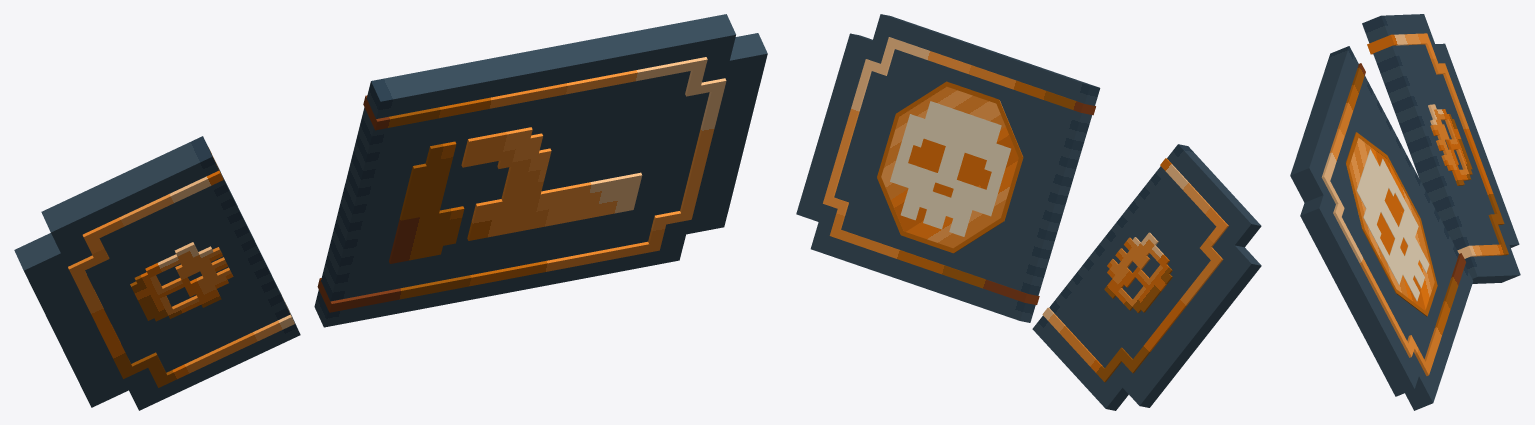
File: pirate_raffle_tic02.gltf
3 renders of one model, left to right at view 1: azimuth 30°, elevation 25°; view 2: azimuth 150°, elevation 25°; view 3: azimuth 270°, elevation 25°, orthographic. The views are drawn at different scales.
Visible parts, largest first — view 1: ticket_...cket$$(3)-Local, ticket_ship_tab$$(3)-Local, icon$$(3)-Local, skull$$(2)-Local; view 2: ticket_...cket$$(3)-Local, ticket_ship_tab$$(3)-Local, skull-Local, coin_sheen-Local, skull$$(2)-Local, icon$$(3)-Local, p_coin01-Local, p_coin02-Local; view 3: ticket_...cket$$(3)-Local, ticket_ship_tab$$(3)-Local, skull$$(2)-Local, skull-Local, icon$$(3)-Local, coin_sheen-Local, p_coin01-Local, p_coin02-Local.
Part boxes in pixels (x1=…): ticket_...cket$$(3)-Local: x1=314, y1=14, x2=767, y2=327; ticket_ship_tab$$(3)-Local: x1=14, y1=136, x2=300, y2=410; icon$$(3)-Local: x1=317, y1=57, x2=726, y2=312; skull$$(2)-Local: x1=68, y1=147, x2=294, y2=387; ticket_...cket$$(3)-Local: x1=796, y1=14, x2=1100, y2=322; ticket_ship_tab$$(3)-Local: x1=1032, y1=144, x2=1261, y2=410; skull-Local: x1=890, y1=101, x2=1010, y2=236; coin_sheen-Local: x1=881, y1=86, x2=1023, y2=248; skull$$(2)-Local: x1=1042, y1=158, x2=1228, y2=382; icon$$(3)-Local: x1=823, y1=37, x2=1095, y2=304; p_coin01-Local: x1=877, y1=81, x2=1023, y2=253; p_coin02-Local: x1=877, y1=81, x2=1022, y2=252; ticket_...cket$$(3)-Local: x1=1290, y1=46, x2=1473, y2=410; ticket_ship_tab$$(3)-Local: x1=1362, y1=14, x2=1520, y2=283; skull$$(2)-Local: x1=1367, y1=33, x2=1508, y2=258; skull-Local: x1=1356, y1=149, x2=1429, y2=301; icon$$(3)-Local: x1=1321, y1=63, x2=1465, y2=375; coin_sheen-Local: x1=1347, y1=138, x2=1434, y2=310; p_coin01-Local: x1=1346, y1=132, x2=1437, y2=315; p_coin02-Local: x1=1346, y1=132, x2=1437, y2=316.
Size of the model in its own units: 115 by 59.99 by 42.85.
Materials: 8 (8 with a texture image).
